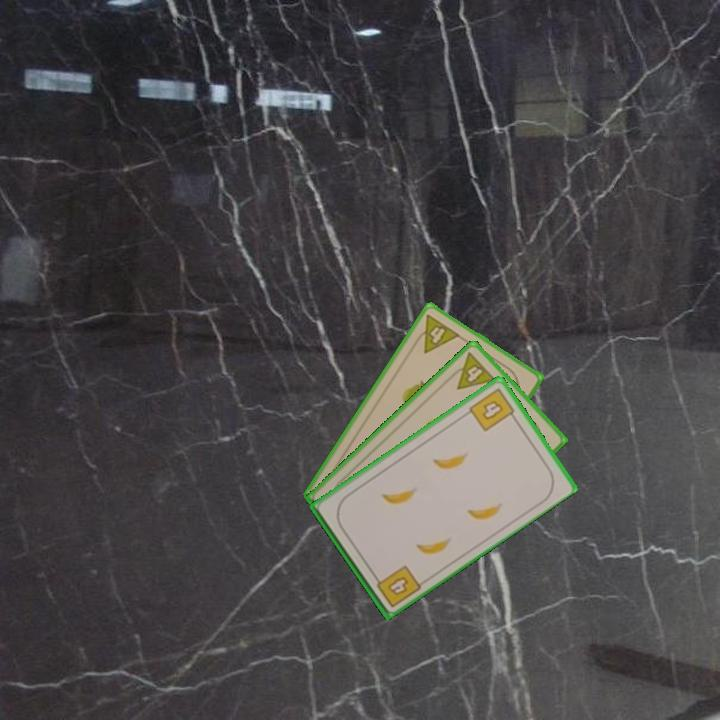4b: (465, 384, 519, 434), (369, 561, 423, 610)
4p: (409, 311, 463, 356), (444, 349, 499, 392)
